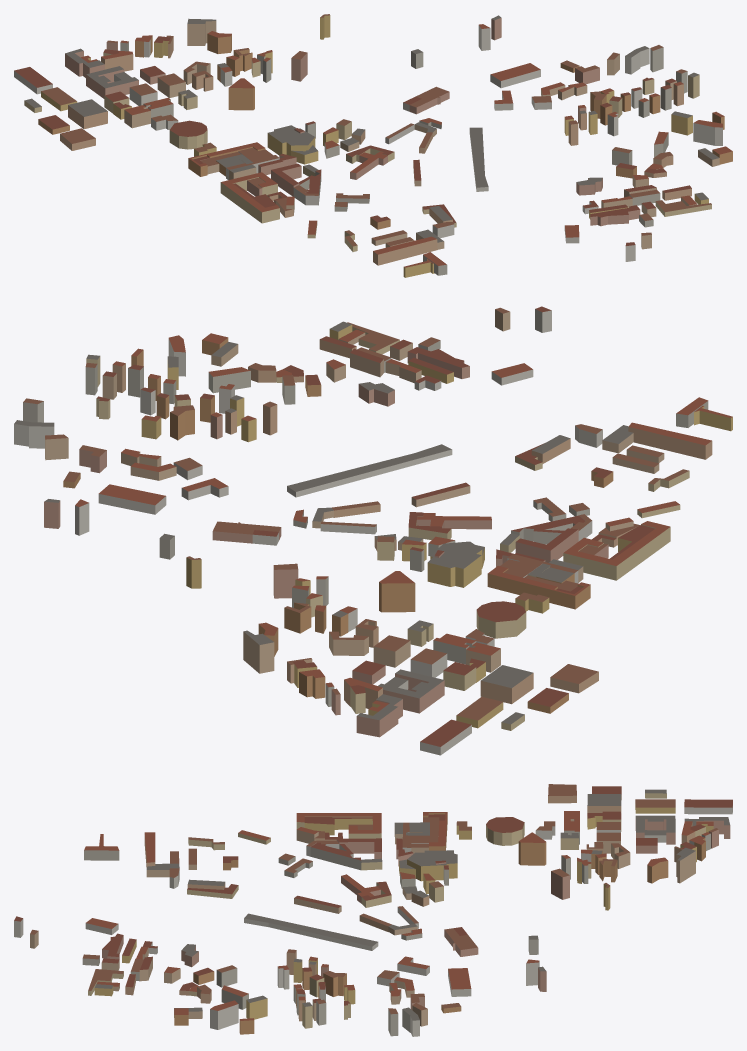
File: SM_Fondale_Citta_N_01_LOD1.fbx
3 renders of one model, top to bottom at view 1: azimuth 30°, elevation 25°; view 2: azimuth 150°, elevation 25°; view 3: azimuth 270°, elevation 25°, orthographic. The views are drawn at different scales.
Visible parts, largest first — view 1: SM_Fondale_Citta_N_01_LOD1; view 2: SM_Fondale_Citta_N_01_LOD1; view 3: SM_Fondale_Citta_N_01_LOD1.
Part boxes in pixels (<box>): SM_Fondale_Citta_N_01_LOD1: <box>14,14,732,277</box>; SM_Fondale_Citta_N_01_LOD1: <box>14,306,732,755</box>; SM_Fondale_Citta_N_01_LOD1: <box>14,784,732,1036</box>.
Bounding box in the file's own units: 80417 × 94559 × 6851.
